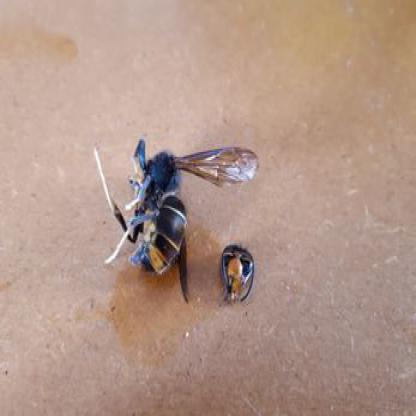Asian Hornet: (94, 137, 216, 302)
